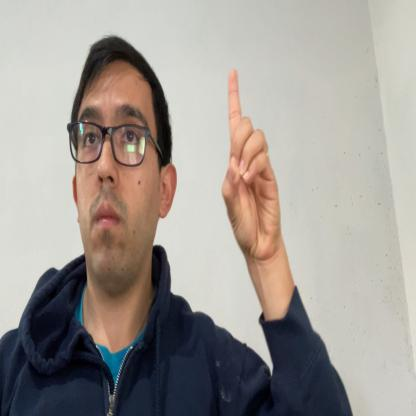D: (223, 68, 280, 255)
